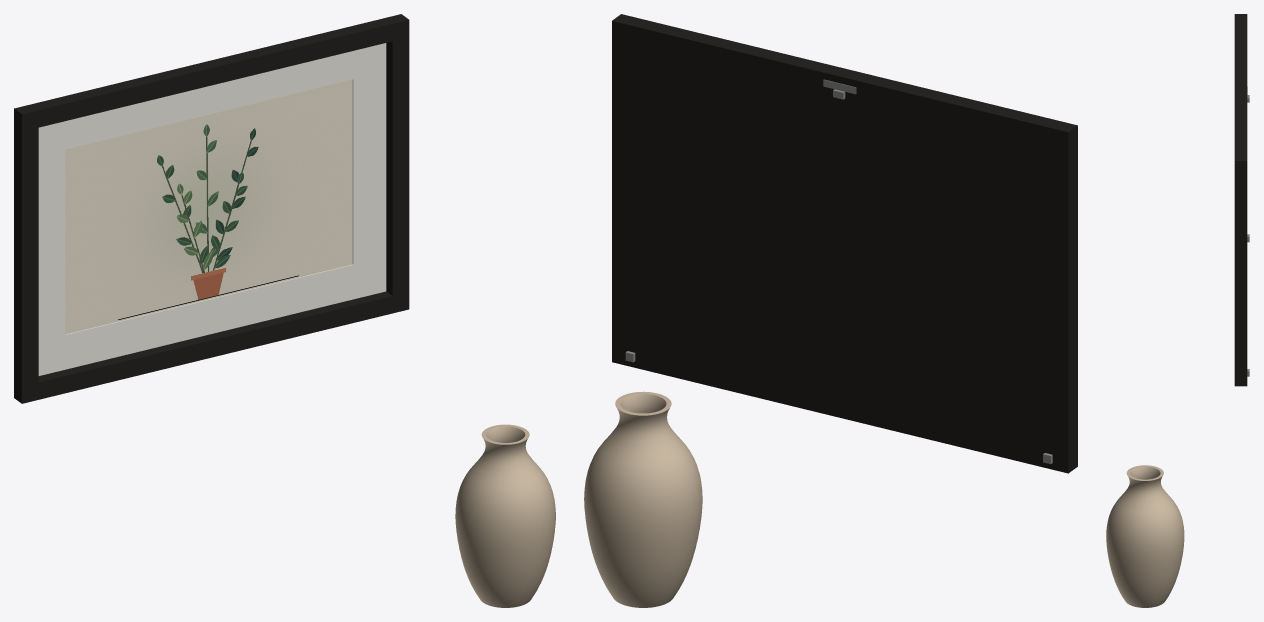
Rendered from wall_decor.glb.
3 views of the same model, side by side, from view 1: azimuth 30°, elevation 25°; view 2: azimuth 150°, elevation 25°; view 3: azimuth 270°, elevation 25° (orthographic). The views are drawn at different scales.
Parts seen in each view (by area): view 1: wall_decor_print, wall_decor.004, wall_decor, wall_decor.003; view 2: wall_decor, wall_decor.003; view 3: wall_decor.003, wall_decor.
Part boxes in pixels (x1,y1,x2,y2): wall_decor_print: (65, 79, 352, 334); wall_decor.004: (38, 43, 386, 375); wall_decor: (14, 14, 409, 403); wall_decor.003: (455, 424, 555, 607); wall_decor: (612, 14, 1077, 473); wall_decor.003: (584, 391, 702, 607); wall_decor.003: (1106, 465, 1184, 607); wall_decor: (1234, 14, 1247, 386).
Size of the model in its own units: 0.8487 by 0.94 by 0.2885.
5 materials, 1 textured.
